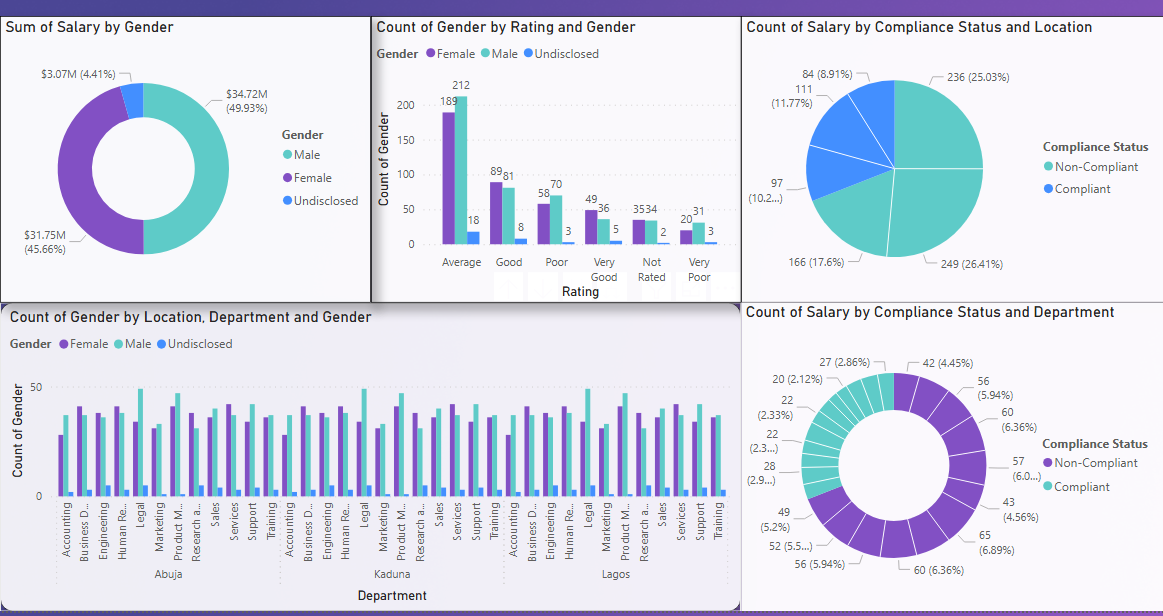

Layout of this report page (visuals, bound fields, positions):
{"tool":"powerbi","page":{"name":"Visualization of gender distribution based on department and  location ","canvas":[1280,720],"ordinal":0},"visuals":[{"type":"clusteredColumnChart","fields":{"Y":["CountNonNull(Palmoria Group emp-data.Gender)"],"Series":["Palmoria Group emp-data.Gender"],"Category":["Merge1 Employee New Salary.Location","Palmoria Group emp-data.Department"]},"box":[0,381.5,813.7,338.9],"z":0},{"type":"clusteredColumnChart","fields":{"Category":["Palmoria Group emp-data.Rating"],"Series":["Palmoria Group emp-data.Gender"],"Y":["CountNonNull(Palmoria Group emp-data.Gender)"]},"box":[407.5,67.2,406.2,314.2],"z":1000},{"type":"donutChart","fields":{"Category":["Palmoria Group emp-data.Gender"],"Y":["Sum(Palmoria Group emp-data.Salary)"]},"box":[0,67.2,407.5,314.2],"z":2000},{"type":"pieChart","fields":{"Category":["Palmoria Group emp-data.Compliance Status"],"Y":["CountNonNull(Palmoria Group emp-data.Salary)"],"Series":["Palmoria Group emp-data.Location"]},"box":[813.7,67.2,466.6,314.2],"z":3000},{"type":"donutChart","fields":{"Category":["Palmoria Group emp-data.Compliance Status"],"Y":["CountNonNull(Palmoria Group emp-data.Salary)"],"Series":["Palmoria Group emp-data.Department"]},"box":[813.7,381.5,466.6,338.9],"z":4000}]}

Visuals, with their boxes on the page's 1280x720 design canvas (x1, y1, x2, y2). These are canvas units, not pixel positions in the 1163x616 screenshot, which may show the page scaled, cropped or inside an application window:
clusteredColumnChart - CountNonNull(Palmoria Group emp-data.Gender) x Palmoria Group emp-data.Gender: x1=0, y1=382, x2=814, y2=720
clusteredColumnChart - Palmoria Group emp-data.Rating x Palmoria Group emp-data.Gender: x1=408, y1=67, x2=814, y2=381
donutChart - Palmoria Group emp-data.Gender x Sum(Palmoria Group emp-data.Salary): x1=0, y1=67, x2=408, y2=381
pieChart - Palmoria Group emp-data.Compliance Status x CountNonNull(Palmoria Group emp-data.Salary): x1=814, y1=67, x2=1280, y2=381
donutChart - Palmoria Group emp-data.Compliance Status x CountNonNull(Palmoria Group emp-data.Salary): x1=814, y1=382, x2=1280, y2=720
